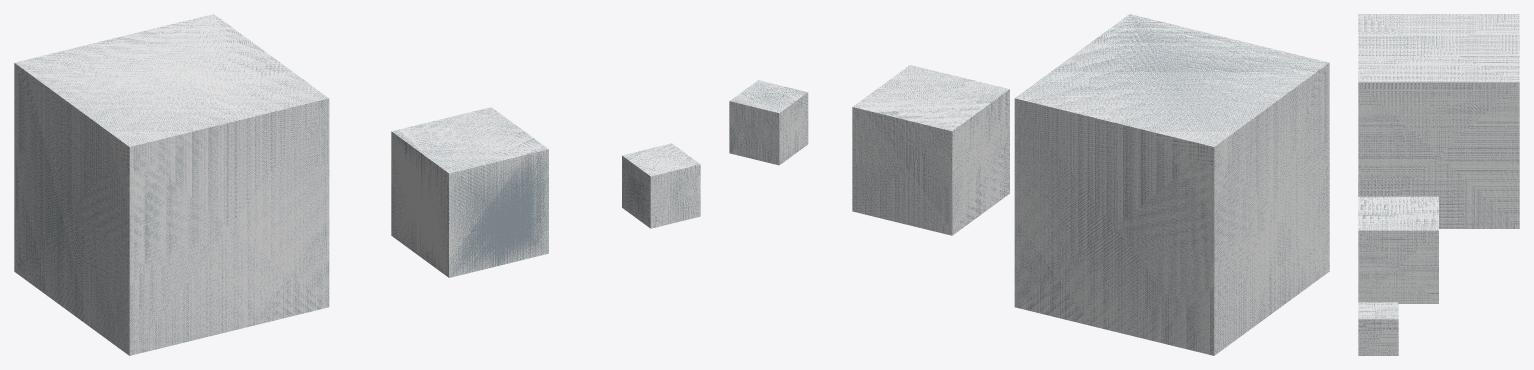
The model's file is two-scenes.dae.
3 views of the same model, side by side, from view 1: azimuth 30°, elevation 25°; view 2: azimuth 150°, elevation 25°; view 3: azimuth 270°, elevation 25° (orthographic). The views are drawn at different scales.
Visible parts, largest first — view 1: SketchUp (×3); view 2: SketchUp (×3); view 3: SketchUp (×3).
Part boxes in pixels (<box>): SketchUp (×3): <box>14,14,700,355</box>; SketchUp (×3): <box>729,14,1329,355</box>; SketchUp (×3): <box>1358,14,1519,355</box>.
Bounding box in the file's own units: 113 × 39.37 × 39.37.
